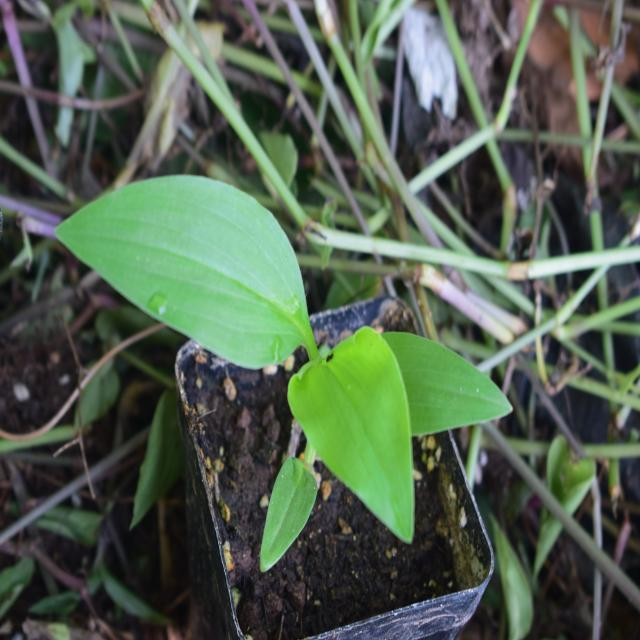Common Dayflower: (71, 176, 480, 529)
